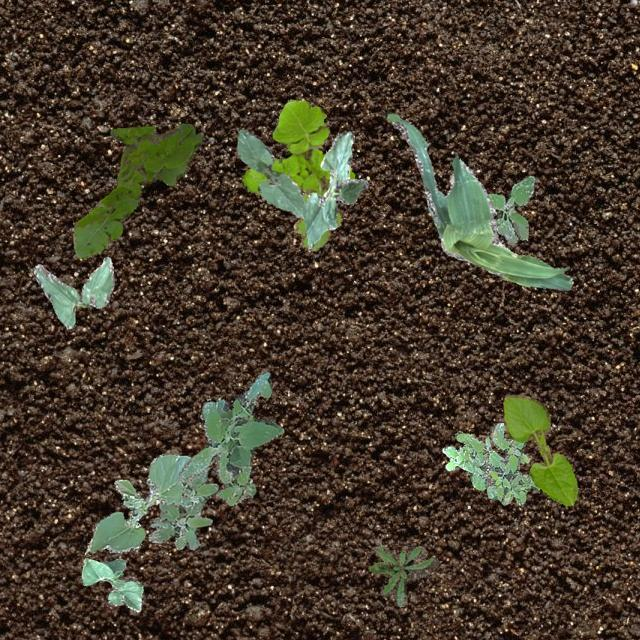crop: (384, 110, 572, 290), (84, 454, 190, 554), (502, 394, 576, 504), (302, 130, 368, 248), (236, 128, 304, 218), (34, 255, 112, 328), (80, 556, 142, 610)
weed: (72, 122, 202, 258), (242, 98, 354, 250), (178, 370, 282, 504), (442, 422, 538, 504), (148, 468, 218, 548), (368, 544, 438, 606), (486, 174, 534, 243)
